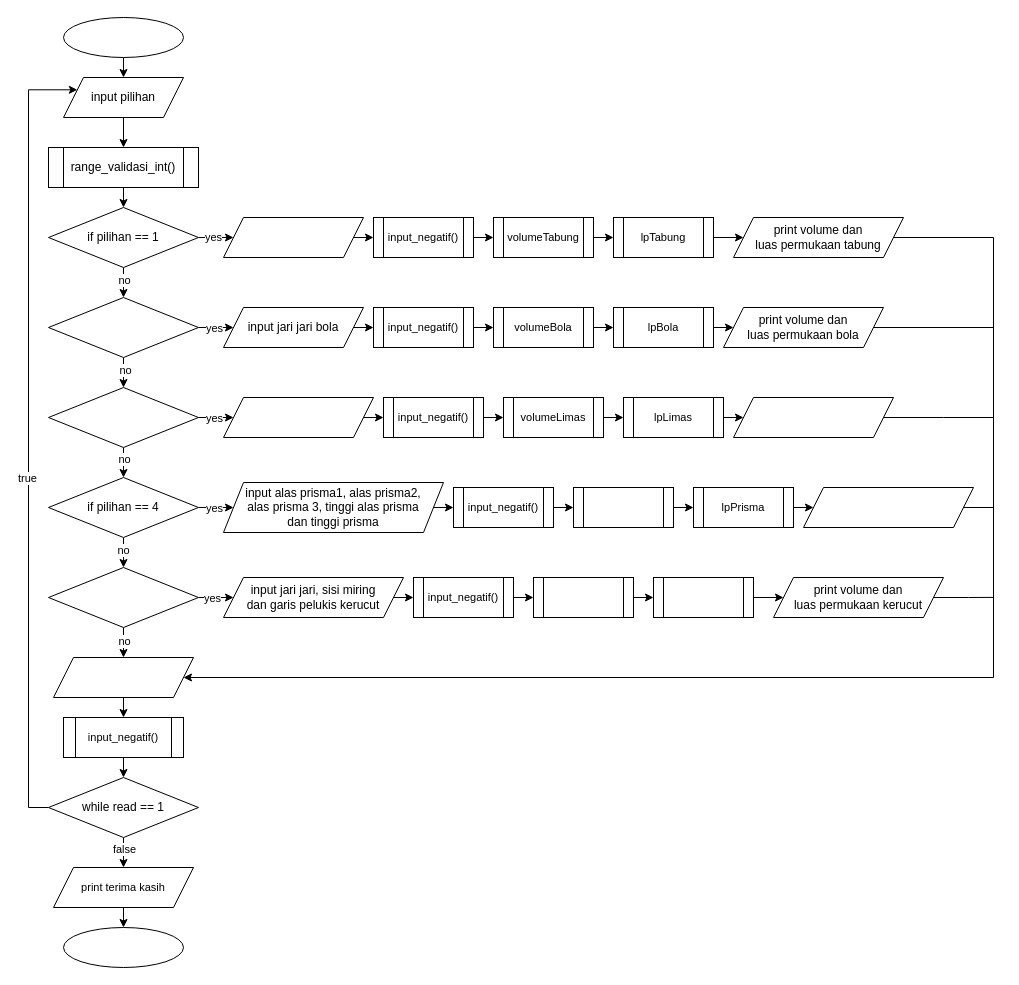
Some shapes in this 1019 by 985 pixel diagram are drawn without their labels. The box of each missing label's shape, as (x1, y1, x2, y2) in pixels:
if pilihan == 2: (48, 296, 198, 358)
if pilihan == 3: (48, 386, 198, 448)
if pilihan == 5: (48, 566, 198, 628)
input apakah ingin menghitung lagi 1 = ya 2 = tidak: (52, 656, 194, 698)
input jari jari dan tinggi tabung: (222, 216, 364, 258)
input tinggi, sisi alas dan sisi miring limas: (222, 396, 374, 438)
lpKerucut: (652, 576, 754, 618)
MULAI: (62, 16, 184, 58)
print volume dan luas permukaan limas: (732, 396, 894, 438)
print volume dan luas permukaan prisma: (802, 486, 974, 528)
SELESAI: (62, 926, 184, 968)
volumeKerucut: (532, 576, 634, 618)
volumePrisma: (572, 486, 674, 528)
